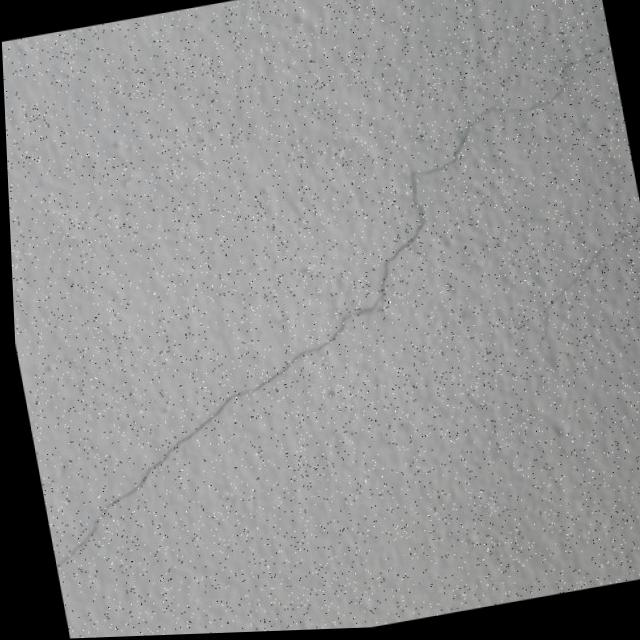Crack: (2, 30, 640, 567)
